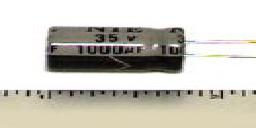Electrolytic Capacitor: (43, 21, 256, 77)
